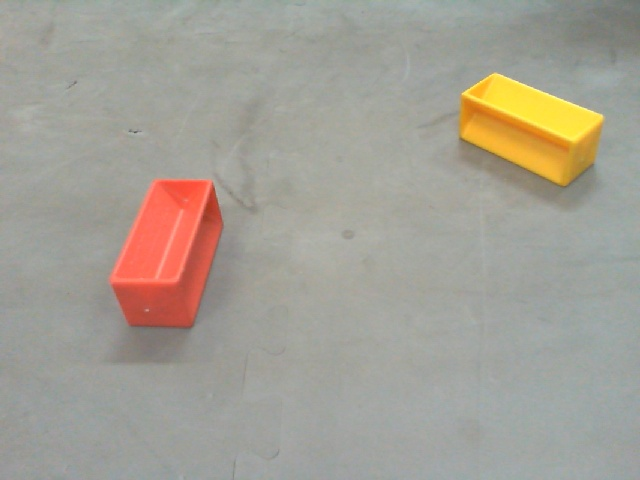RedSample: (109, 178, 224, 330)
YellowSample: (457, 69, 605, 185)
